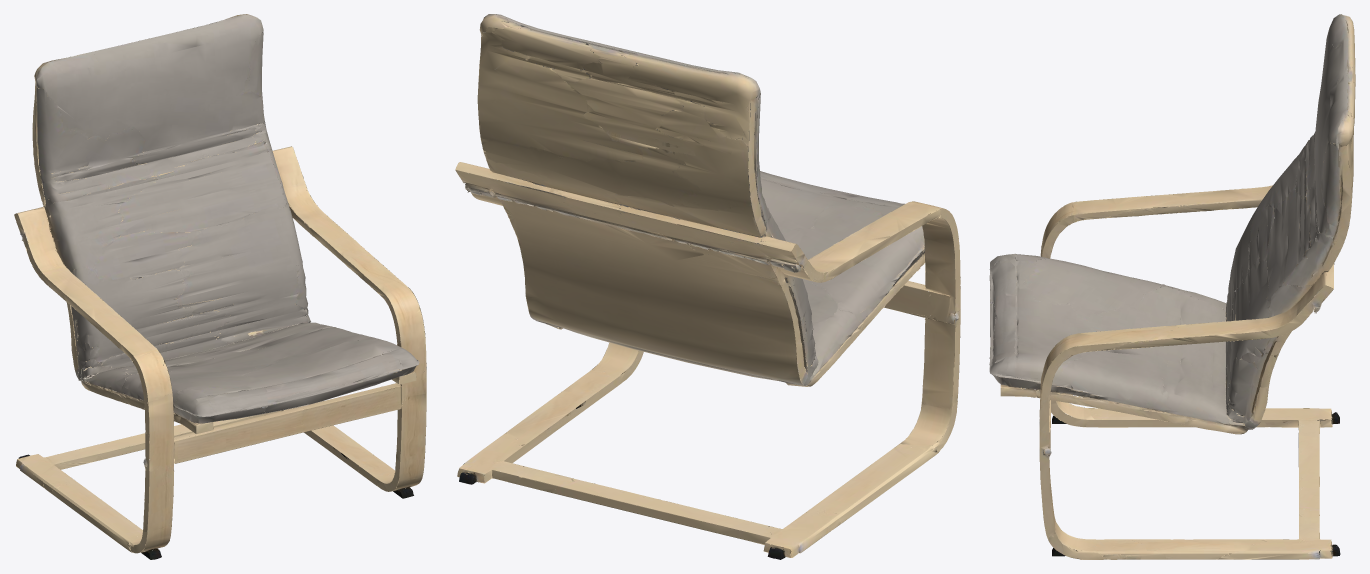
Rendered from ikea-poang-armchair-birch-veneer-knisa-light-beige-59305928.glb.
3 views of the same model, side by side, from view 1: azimuth 30°, elevation 25°; view 2: azimuth 150°, elevation 25°; view 3: azimuth 270°, elevation 25° (orthographic). The views are drawn at different scales.
Visible parts, largest first — view 1: model; view 2: model; view 3: model.
Boxes of the visible parts, x1,y1,x2,y2 form: model: [14, 14, 426, 559]; model: [455, 14, 960, 559]; model: [989, 14, 1355, 559].
Bounding box in the file's own units: 1.38 × 1.85 × 1.46.
Materials: 1 (1 with a texture image).
